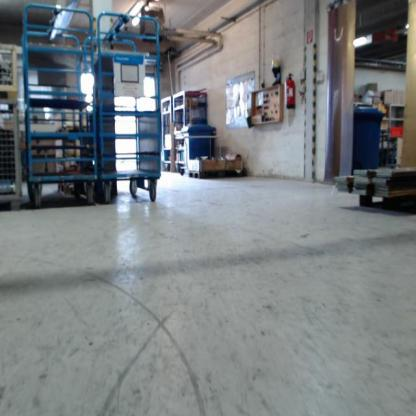pallet: (188, 170, 246, 180)
stillage: (2, 97, 24, 210), (0, 38, 25, 98)
